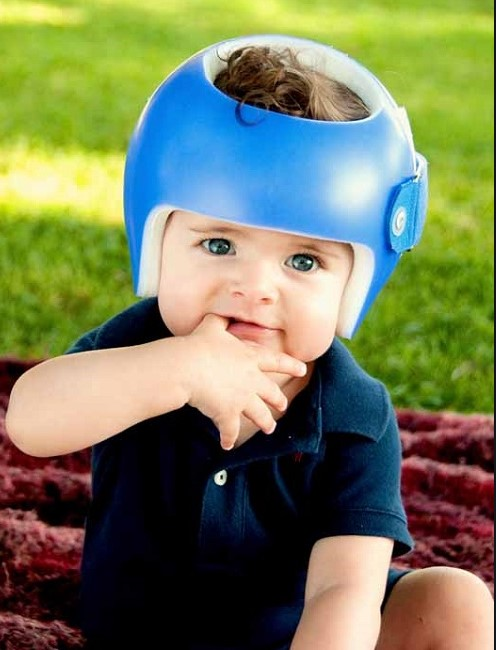face_no_mask: (158, 127, 345, 369)
